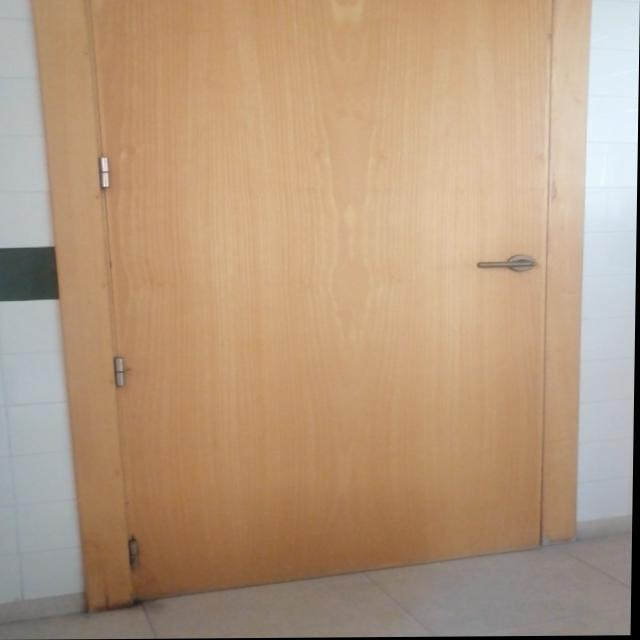door_handle: (473, 261, 540, 271)
